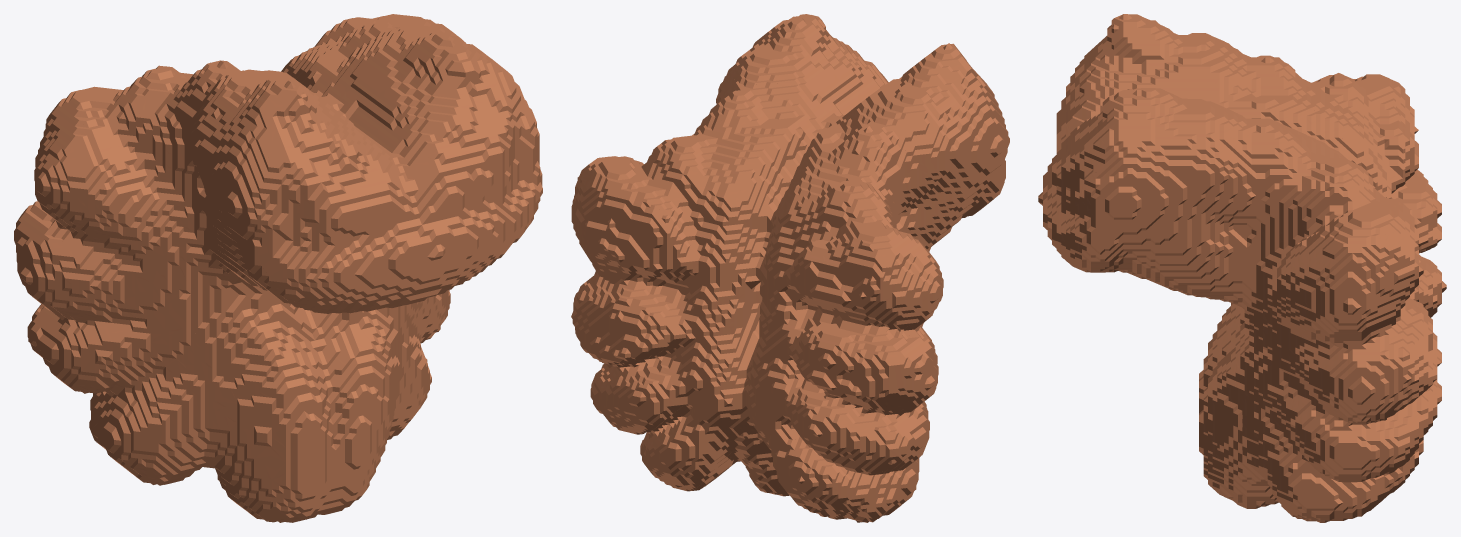
The model's file is uloborus-synganglion.glb.
The picture shows the model from 3 angles, left to right: view 1: azimuth 30°, elevation 25°; view 2: azimuth 150°, elevation 25°; view 3: azimuth 270°, elevation 25°; orthographic projection. The views are drawn at different scales.
Parts seen in each view (by area): view 1: geometry_0; view 2: geometry_0; view 3: geometry_0.
Part boxes in pixels (left/top/right/bottom): geometry_0: left=14, top=14, right=542, bottom=522; geometry_0: left=571, top=14, right=1009, bottom=522; geometry_0: left=1038, top=14, right=1446, bottom=522.
Size of the model in its own units: 0.9152 by 1 by 0.8396.
